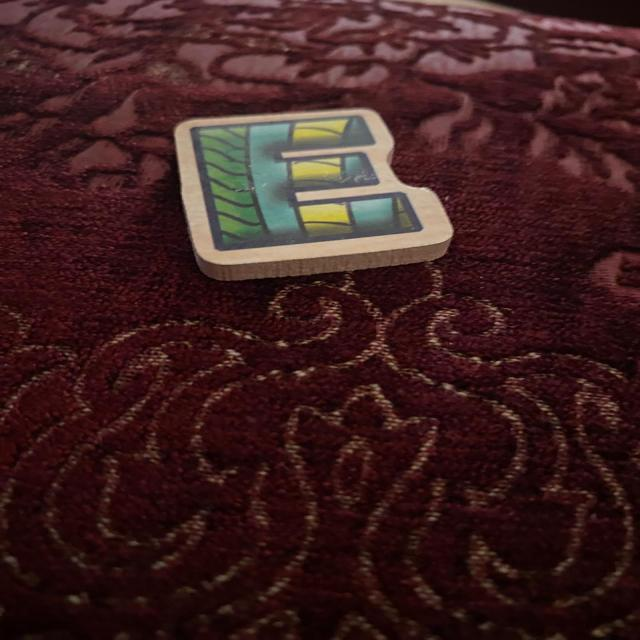E: (175, 108, 452, 279)
